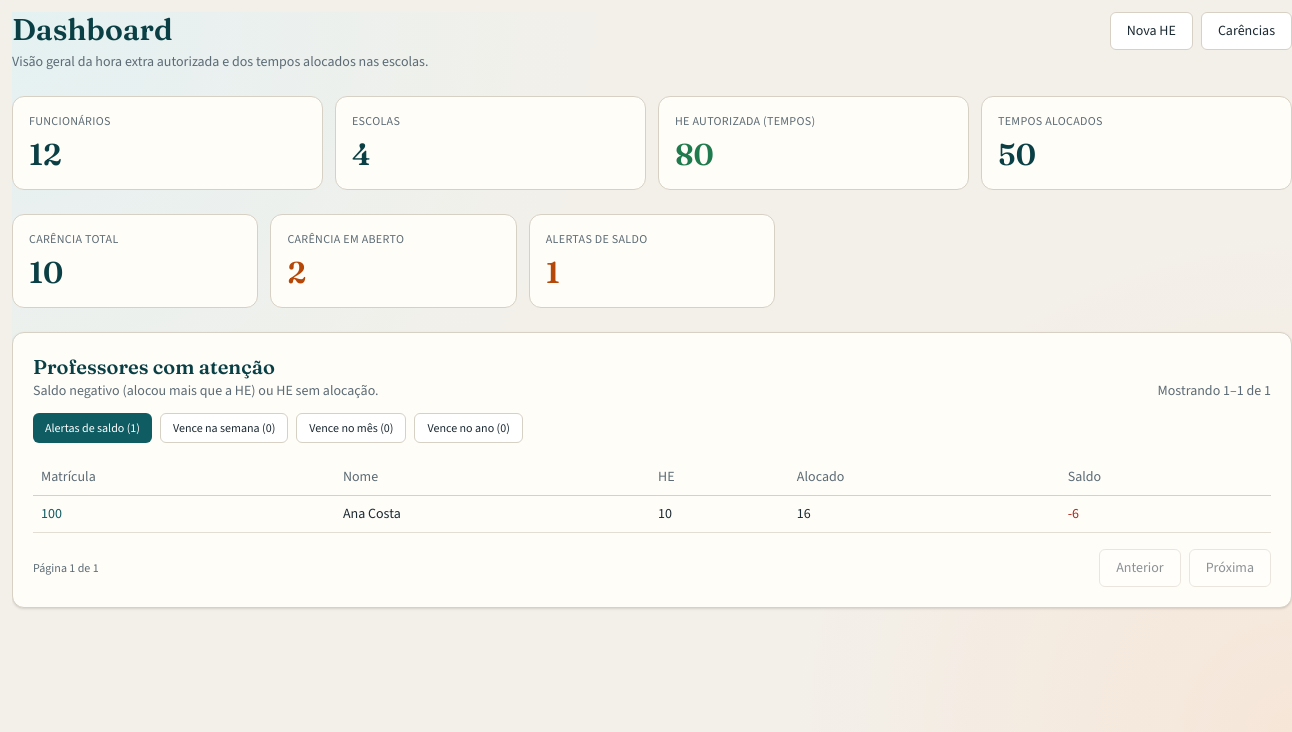
Test: Tela: Dashboard › alterna filtro para horas extras a vencer
expect the heading "Professores com atenção" is shown: met, box [33,354,275,379]
Click the button "Vence na semana (0)": {"x": 224, "y": 428} [160,413,288,443]
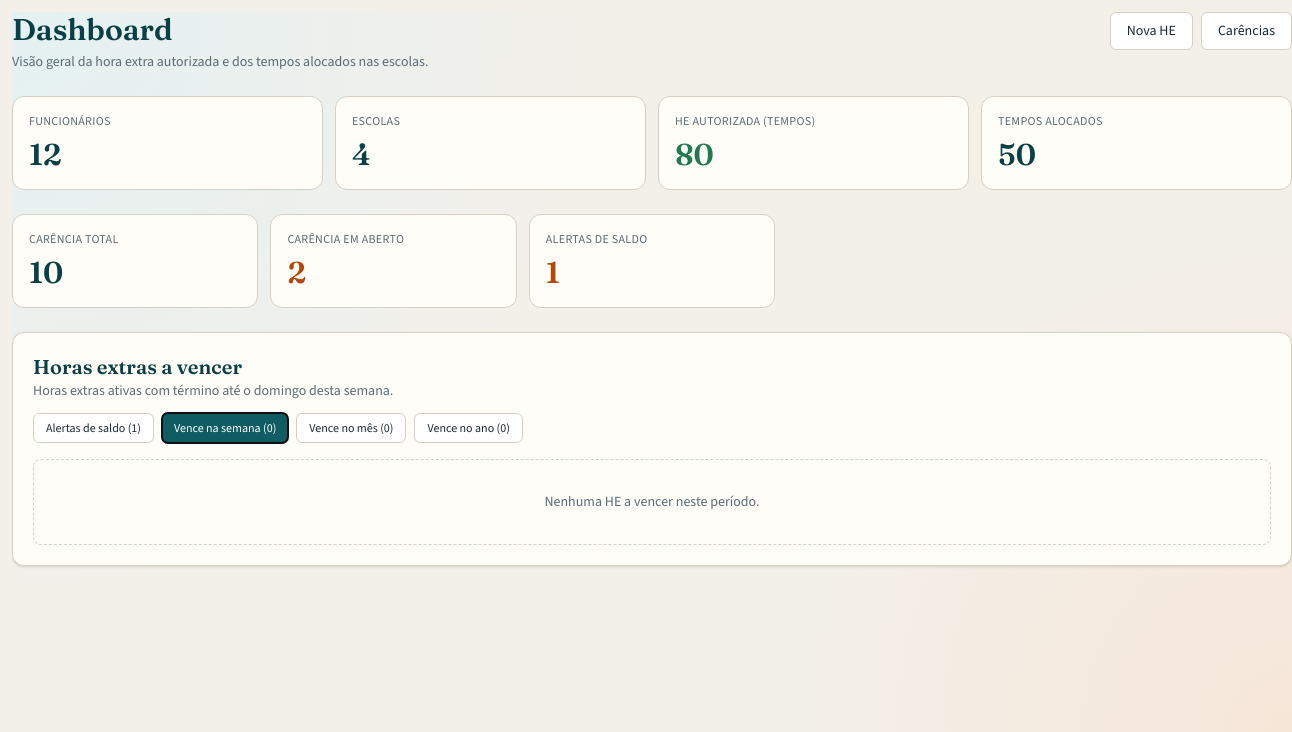
expect the heading "Horas extras a vencer" is shown: met, box [33,354,242,379]
